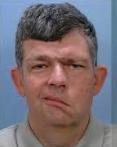strokeEyeMid: (28, 54, 89, 77)
strokeMouthSevere: (38, 92, 76, 112)
